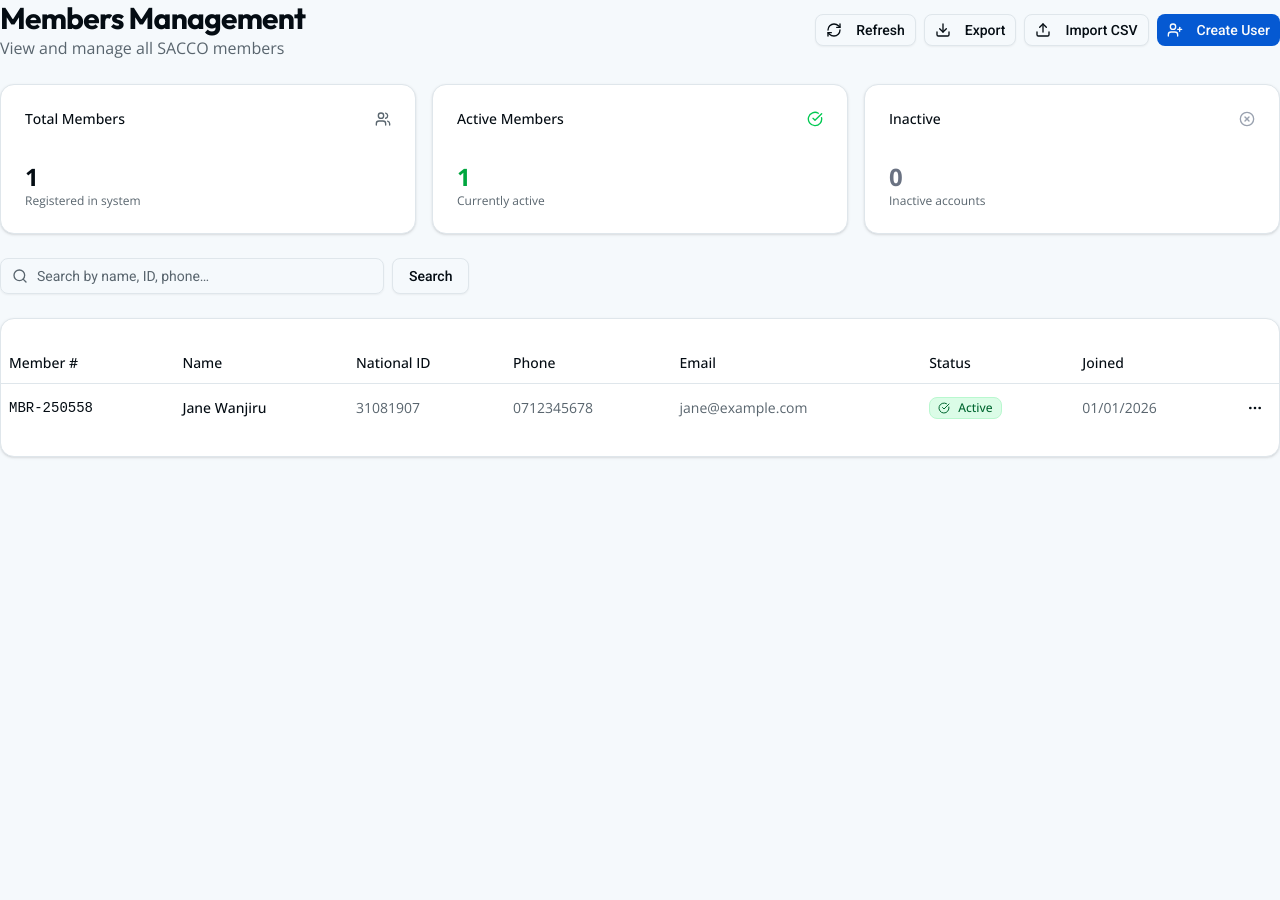
Test case: Members page — Reveal Temp Password gating and flow › fetches and displays the temporary password, masked by default, after confirming
Expected: the text "MBR-250558" is shown, [1,383,174,432]
Press the mouse on the 6th button at (1255, 408), box [1239,392,1271,424]
Click the 6th button. click: (1255, 408)
box: [1239,392,1271,424]
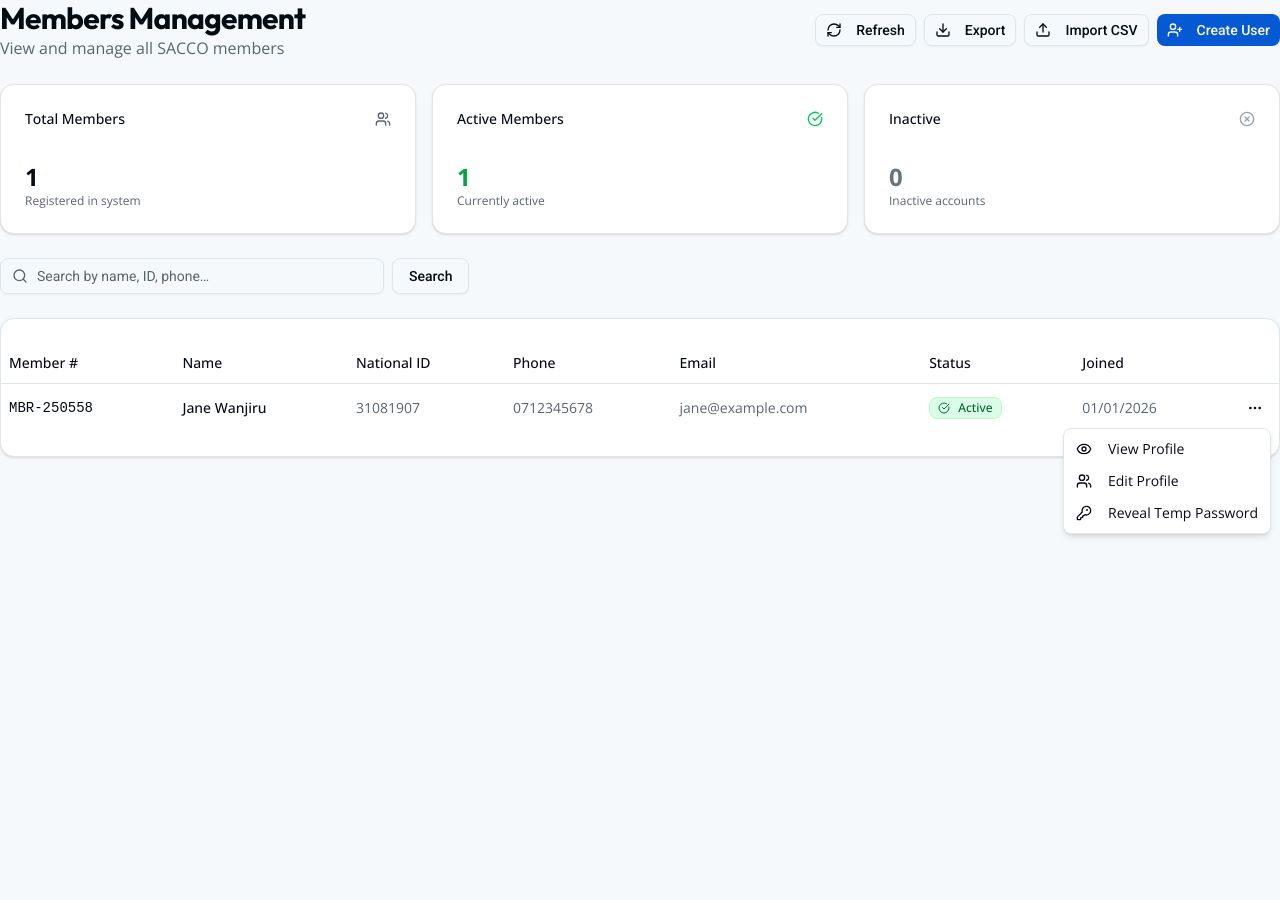
Click the menu item "Reveal Temp Password". click: (1167, 512)
box: [1076,503,1258,522]
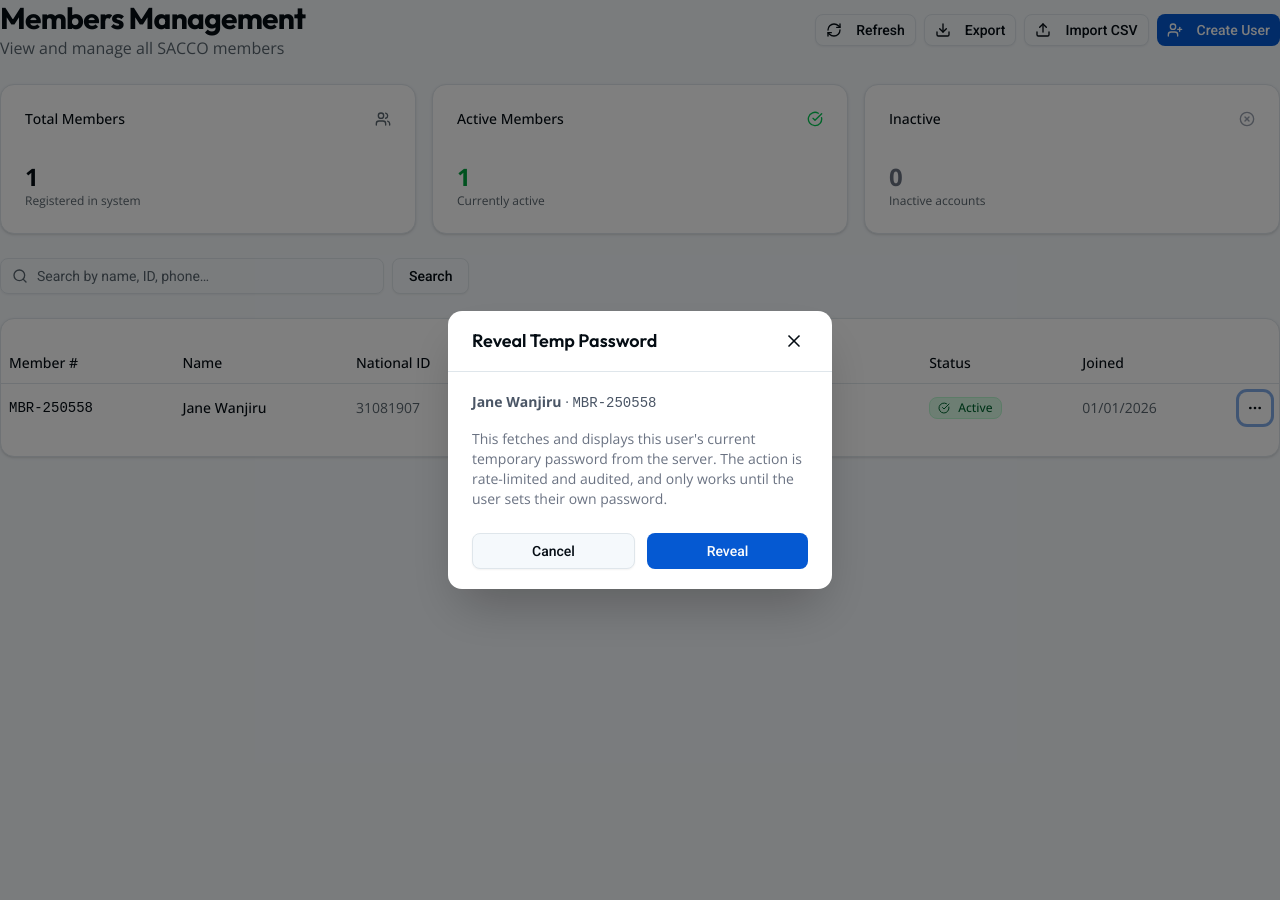
Click the button "Reveal". click: (728, 551)
box: [647,533,808,569]
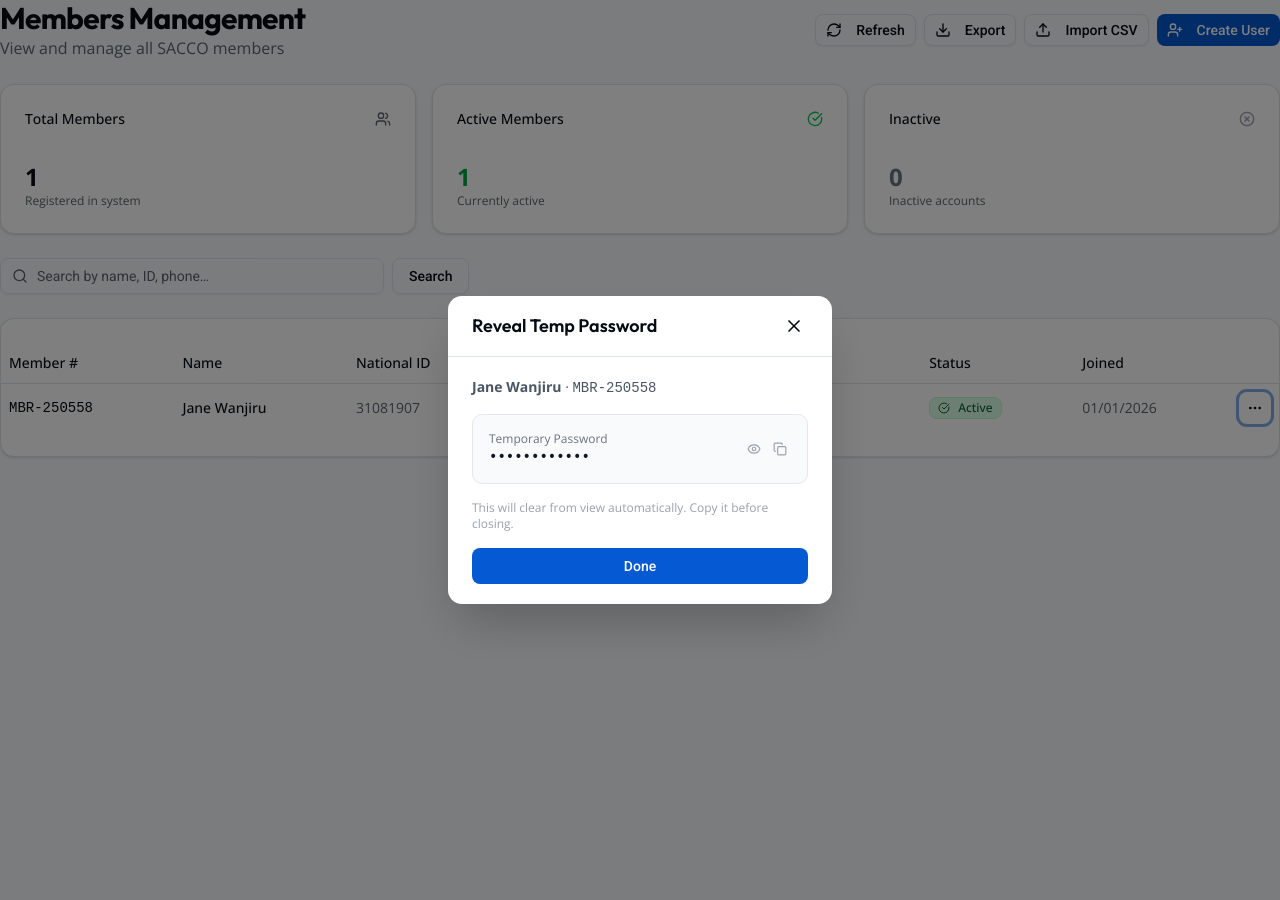
Expected: the text "DMQgdKAKwX4c" is not shown
Expected: the text "••••••••••••" is shown, [489,449,590,465]
Click the button titled "Show". click: (754, 449)
box: [743,438,765,460]
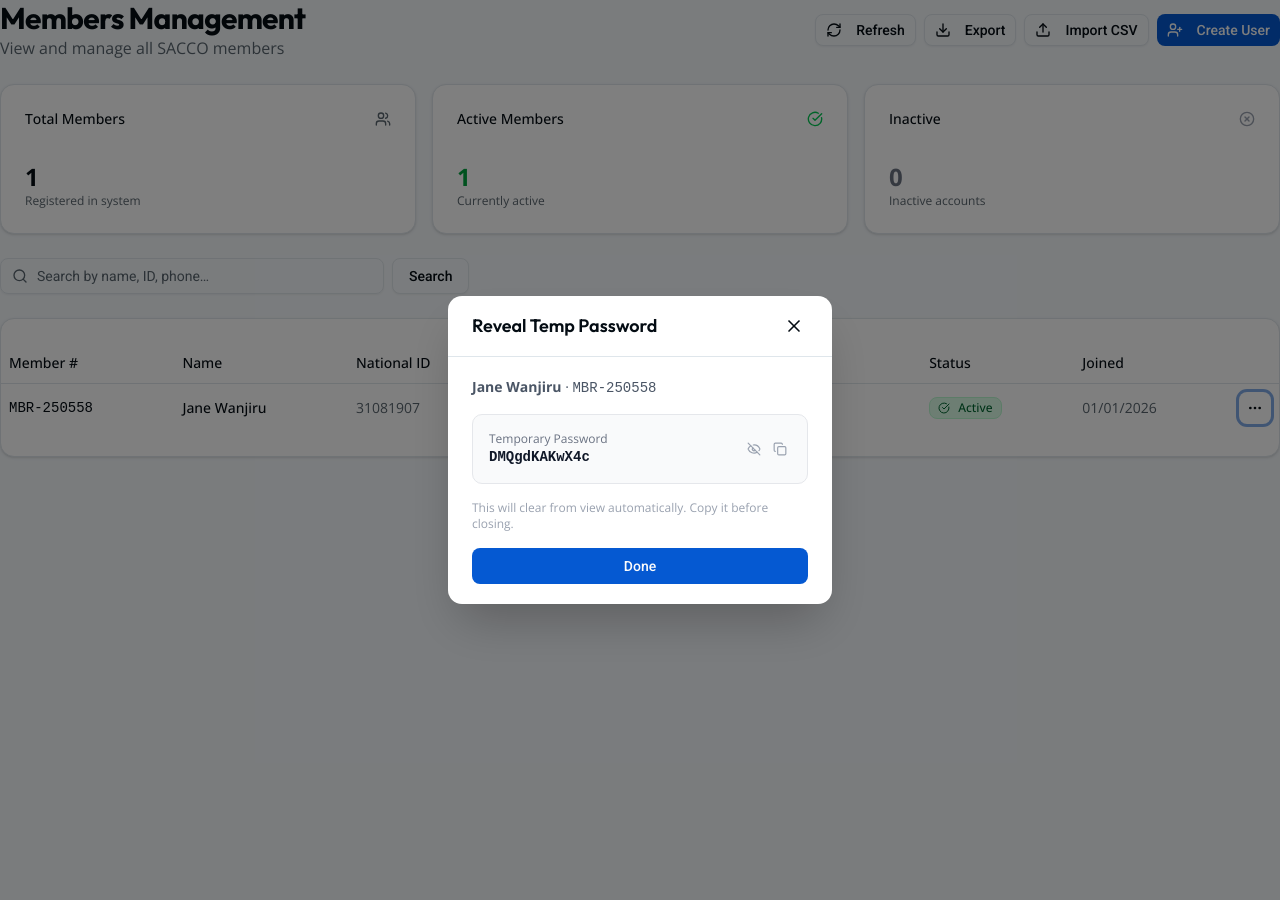
Expected: the text "DMQgdKAKwX4c" is shown, [489,449,590,465]
